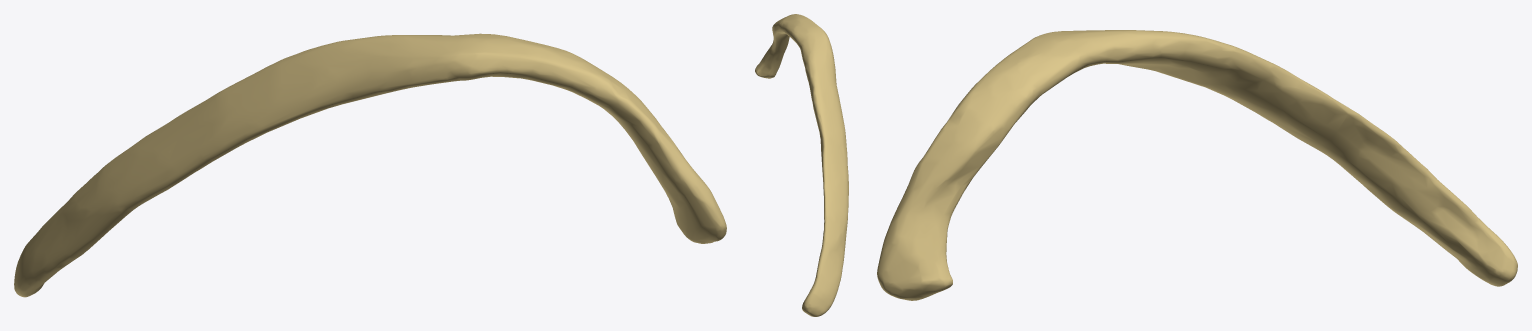
3 renders of one model, left to right at view 1: azimuth 30°, elevation 25°; view 2: azimuth 150°, elevation 25°; view 3: azimuth 270°, elevation 25°, orthographic. The views are drawn at different scales.
Parts seen in each view (by area): view 1: 右侧第十一肋; view 2: 右侧第十一肋; view 3: 右侧第十一肋.
Part boxes in pixels (x1,y1,x2,y2): 右侧第十一肋: [14, 33, 726, 297]; 右侧第十一肋: [755, 14, 848, 316]; 右侧第十一肋: [877, 30, 1517, 300].
Size of the model in its own units: 0.1471 by 0.1196 by 0.1945.
